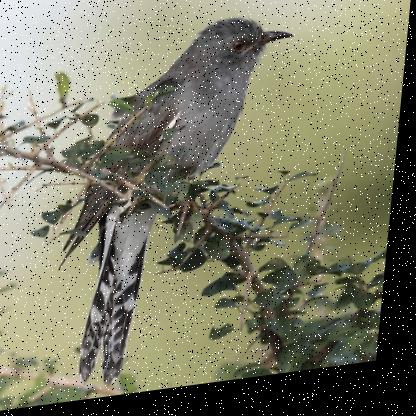Burung: (55, 18, 296, 396)
